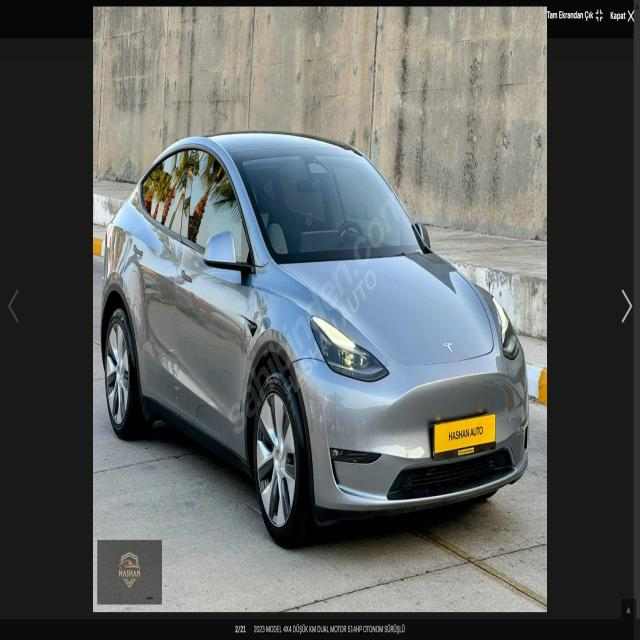tesla: (433, 332, 464, 360)
